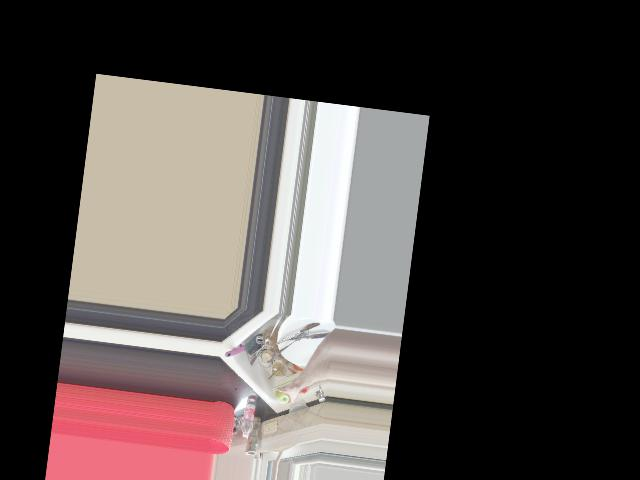apple: (274, 386, 291, 406)
